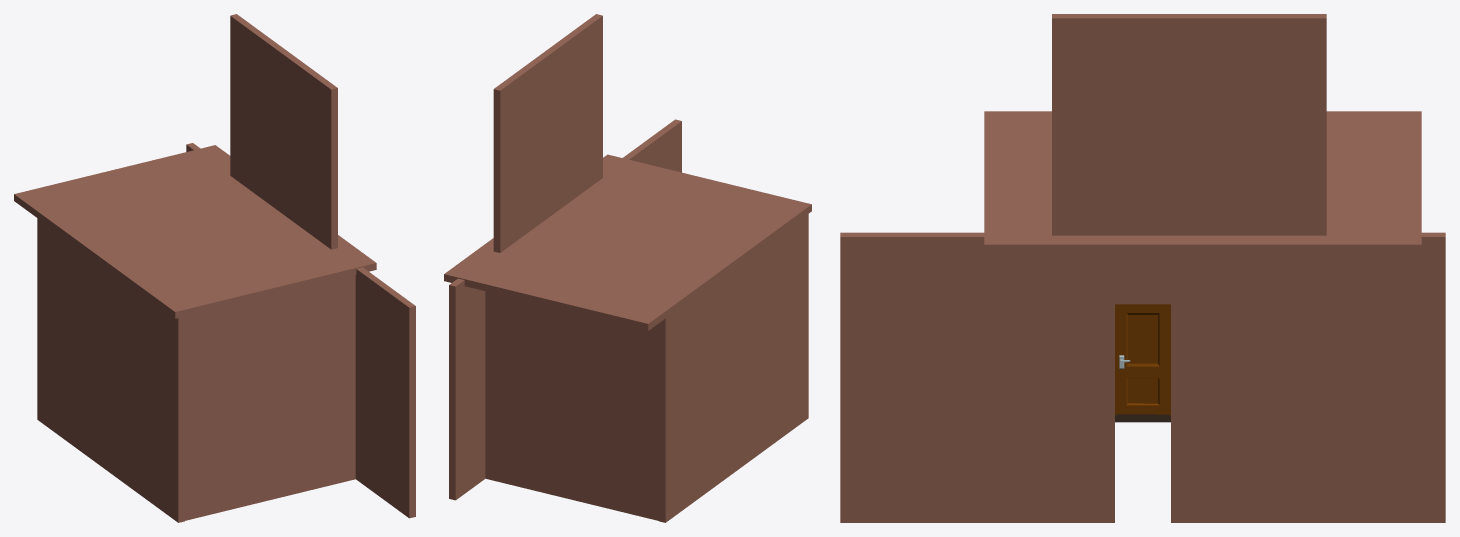
The picture shows the model from 3 angles, left to right: view 1: azimuth 30°, elevation 25°; view 2: azimuth 150°, elevation 25°; view 3: azimuth 270°, elevation 25°; orthographic projection. The views are drawn at different scales.
Parts seen in each view (by area): view 1: Cube001, Cube007, Cube006, Cube005, Cube004, Cube009, Cube008; view 2: Cube003, Cube006, Cube009, Cube005, Cube007, Cube008, Cube002, Cube004; view 3: Cube004, Cube005, Cube002, Cube009, Cube007, door.
Part boxes in pixels (x1,y1,x2,y2): Cube001: (185, 275, 355, 520); Cube007: (74, 194, 376, 318); Cube006: (37, 218, 138, 493); Cube005: (230, 14, 337, 249); Cube004: (355, 267, 415, 518); Cube009: (14, 145, 287, 266); Cube008: (138, 292, 184, 522); Cube003: (485, 291, 658, 520); Cube006: (659, 243, 768, 522); Cube009: (444, 210, 750, 330); Cube005: (493, 14, 602, 252); Cube007: (535, 154, 811, 285); Cube008: (706, 214, 808, 447); Cube002: (449, 278, 485, 500); Cube004: (623, 119, 681, 172); Cube004: (840, 232, 1114, 522); Cube005: (1052, 14, 1326, 304); Cube002: (1171, 232, 1445, 522); Cube009: (1147, 111, 1421, 253); Cube007: (984, 111, 1258, 253); door: (1116, 305, 1169, 414).
Bounding box in the file's own units: 19 × 33.51 × 36.44.
